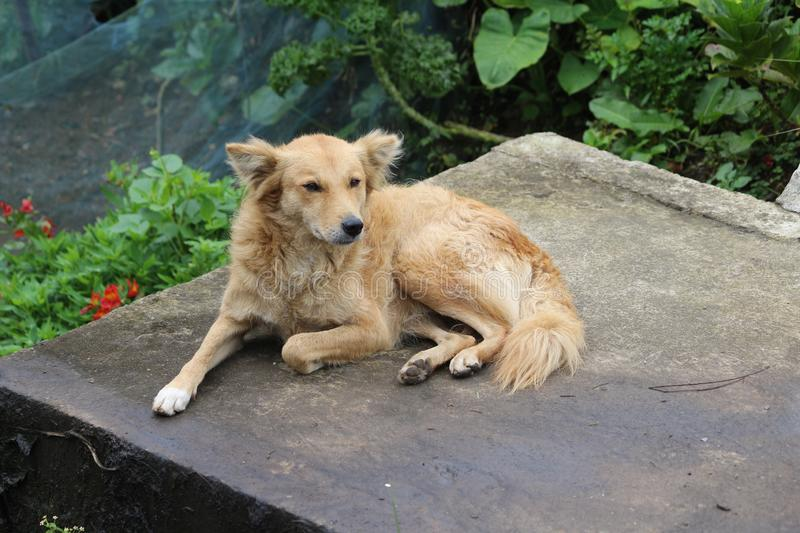Dog: (144, 119, 598, 425)
